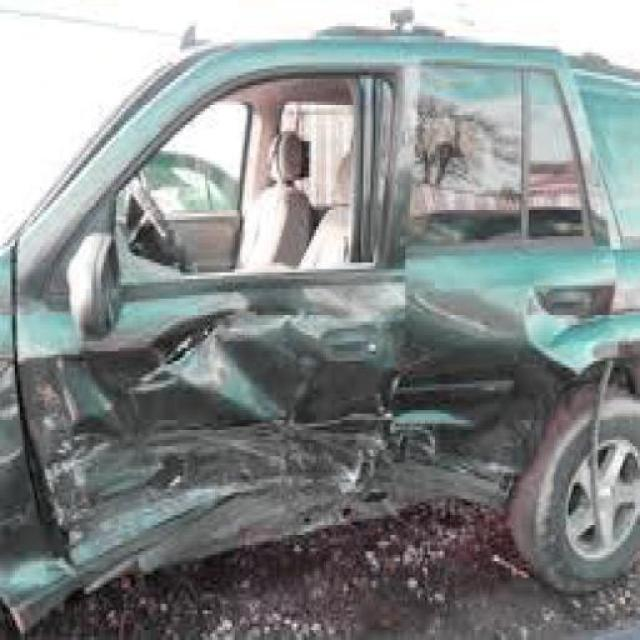Car-Damage: (1, 269, 614, 633)
